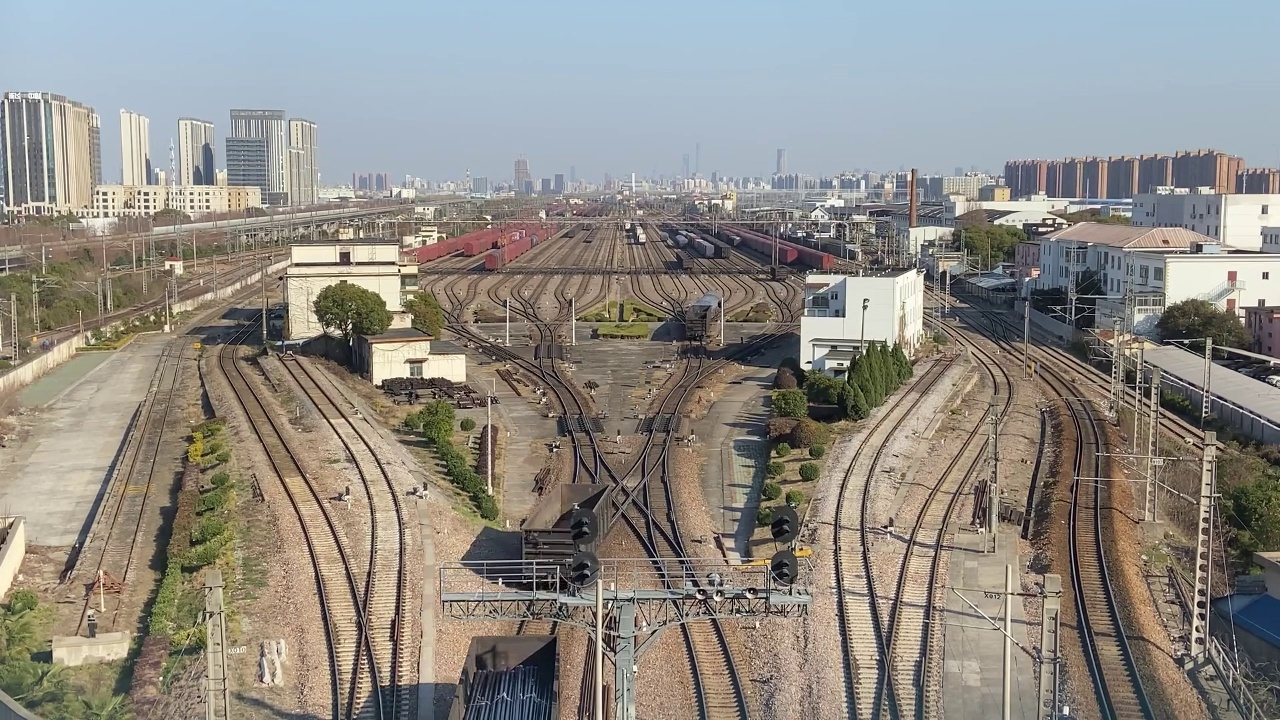train: (495, 470, 657, 571)
